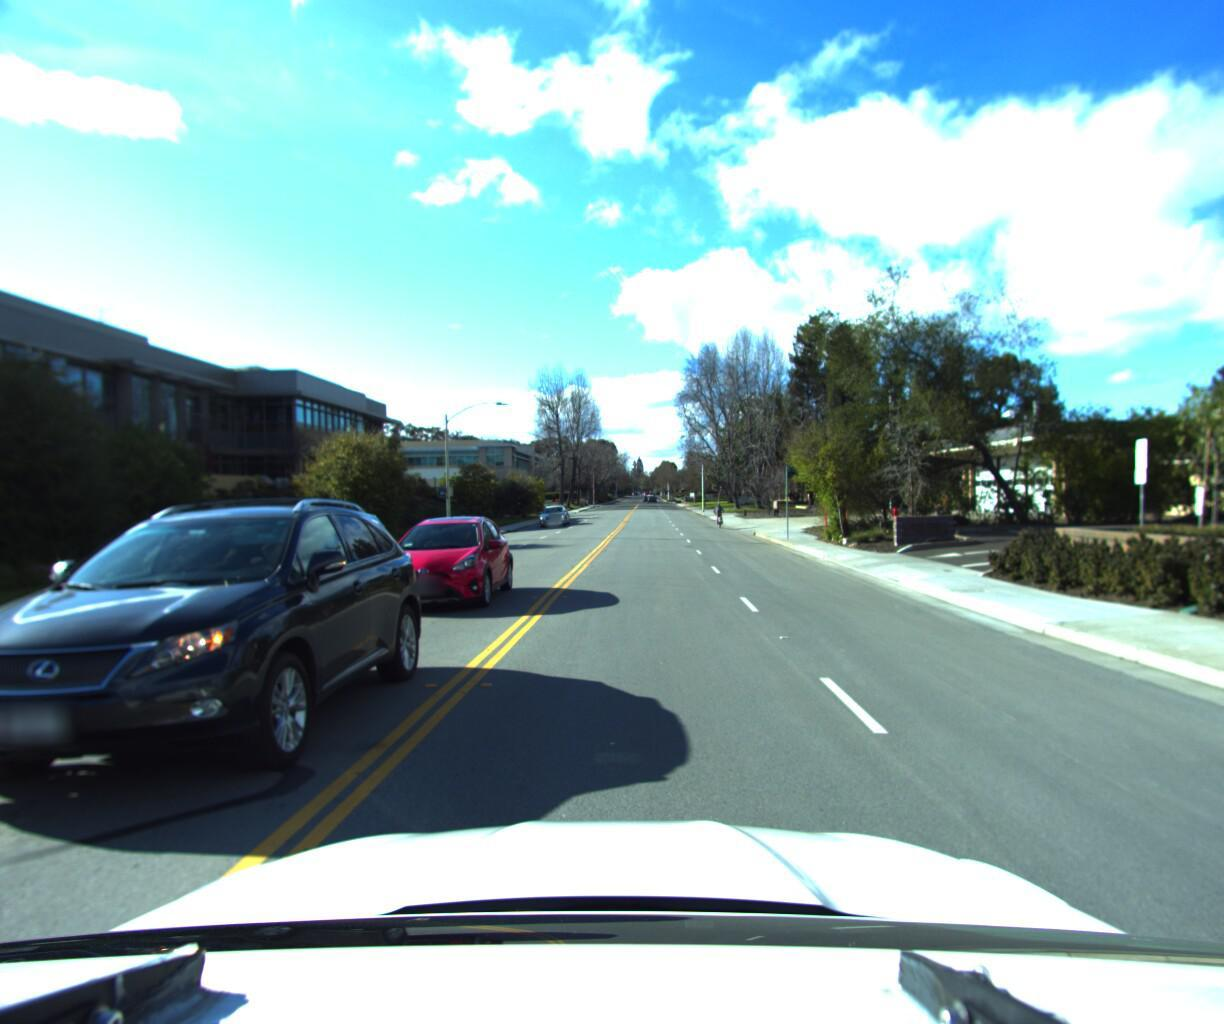bicycle: (710, 496, 724, 524)
car: (0, 495, 440, 828), (355, 508, 522, 615), (537, 499, 572, 524)
